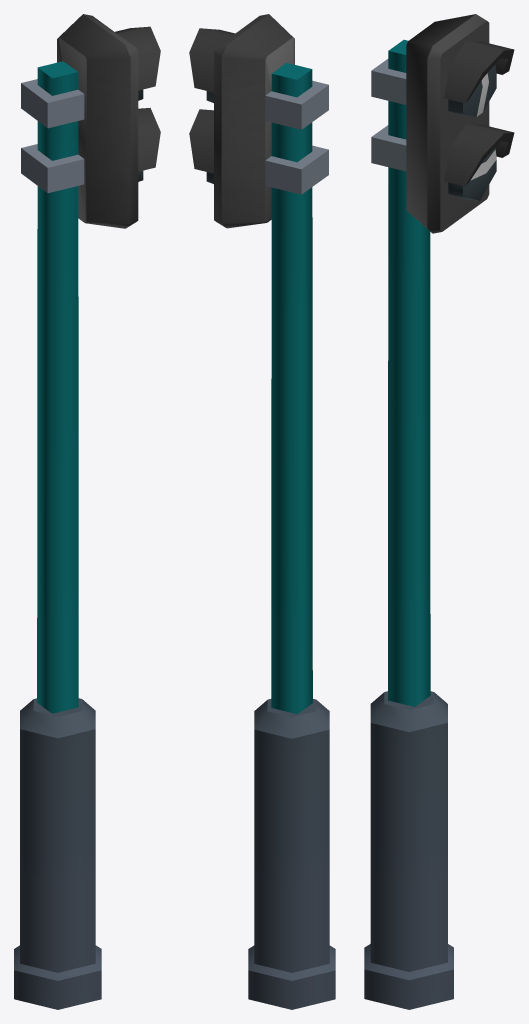
Rendered from Lights_2_C.fbx.
3 views of the same model, side by side, from view 1: azimuth 30°, elevation 25°; view 2: azimuth 150°, elevation 25°; view 3: azimuth 330°, elevation 25° (orthographic). The views are drawn at different scales.
Parts seen in each view (by area): view 1: Lights_2_C; view 2: Lights_2_C; view 3: Lights_2_C.
Boxes of the visible parts, x1=… form: Lights_2_C: x1=14, y1=14, x2=160, y2=1009; Lights_2_C: x1=189, y1=14, x2=335, y2=1009; Lights_2_C: x1=364, y1=14, x2=514, y2=1009.
Bounding box in the file's own units: 49.58 × 330 × 33.33.
